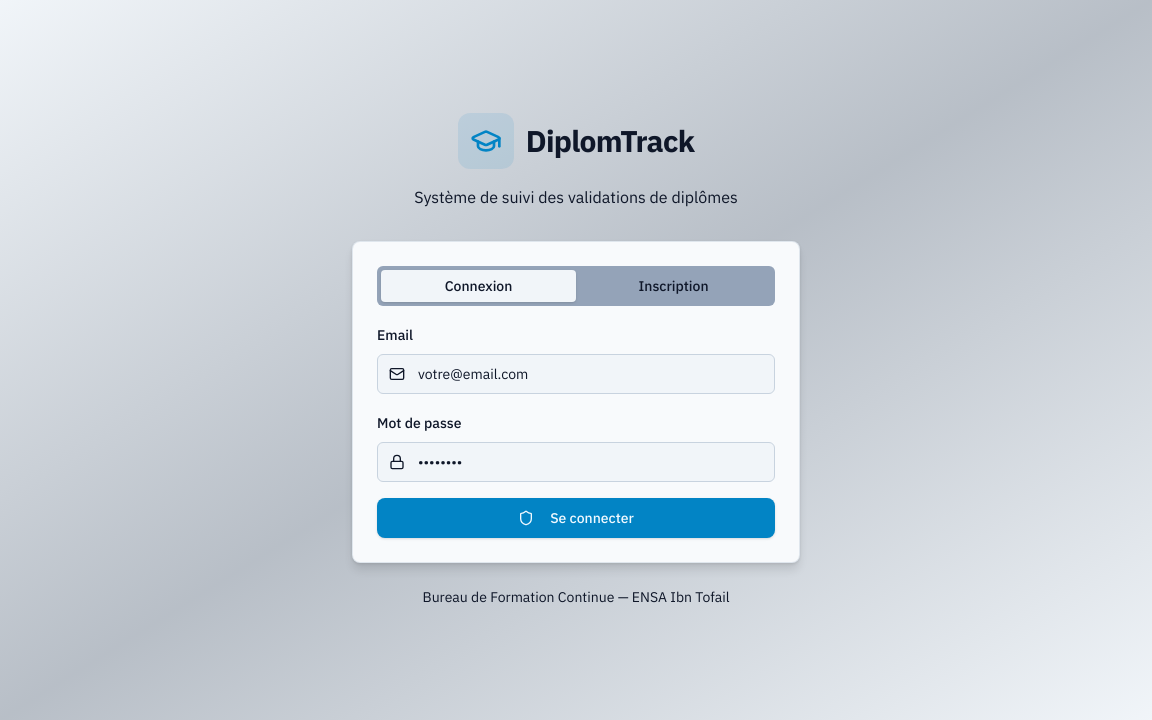
Test: login › shows the backend error for wrong credentials and stays on /auth
Type "agent@uit.ac.ma" into the field labelled "Email" at (576,374), box [377,354,775,394]
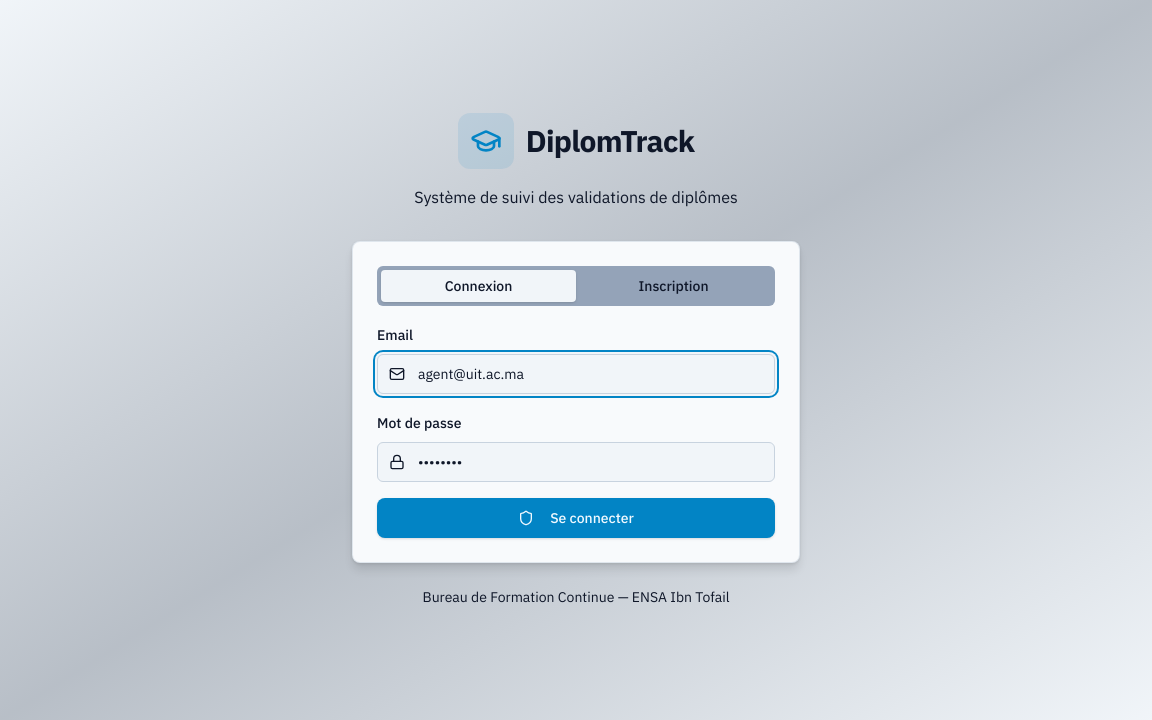
Type "wrong-password" into the password field labelled "Mot de passe" at (576,462), box [377,442,775,482]
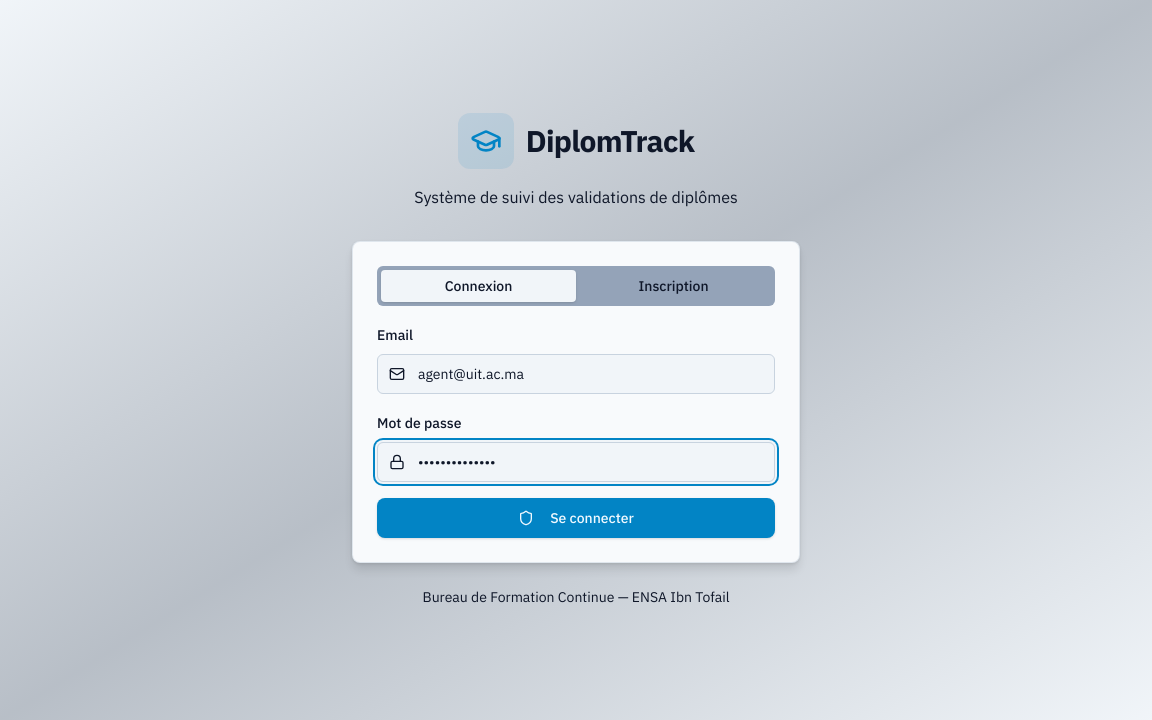
Click the button "Se connecter" at (576,518), box [377,498,775,538]
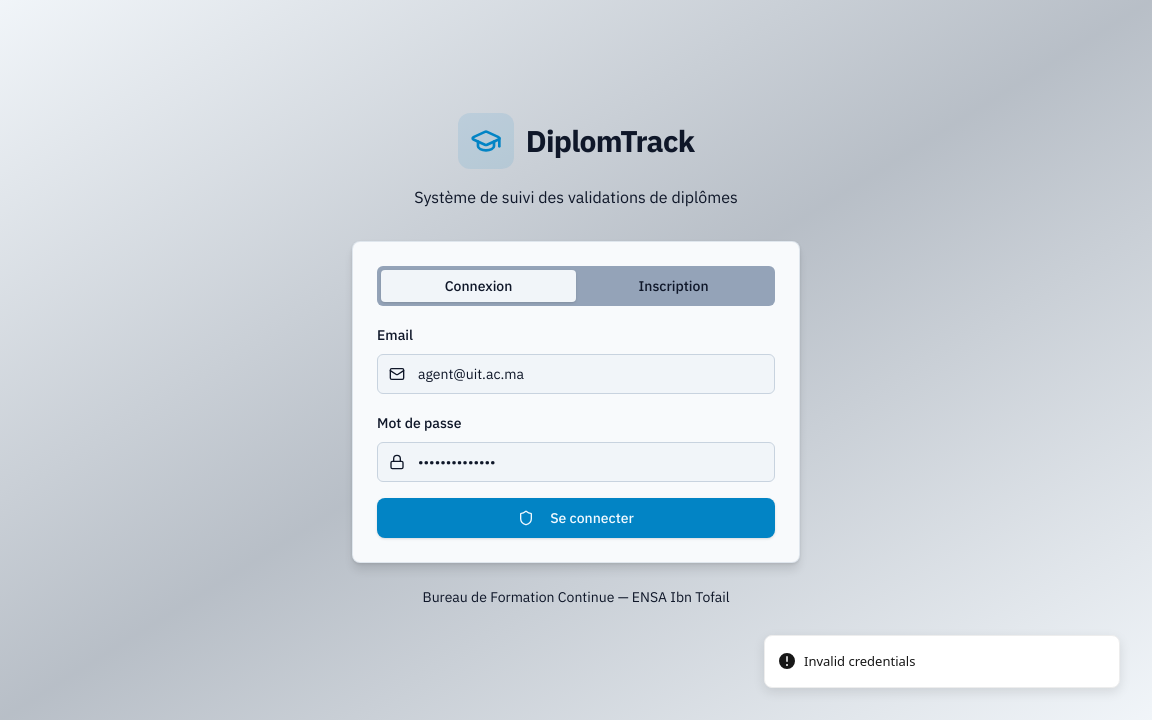
Expected: the text "Invalid credentials" is shown, [804,652,915,671]
